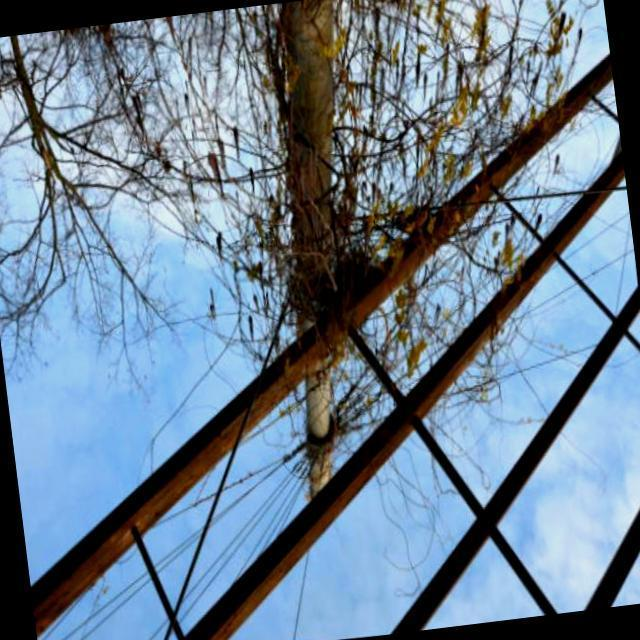critical vegetation: (256, 162, 374, 504)
